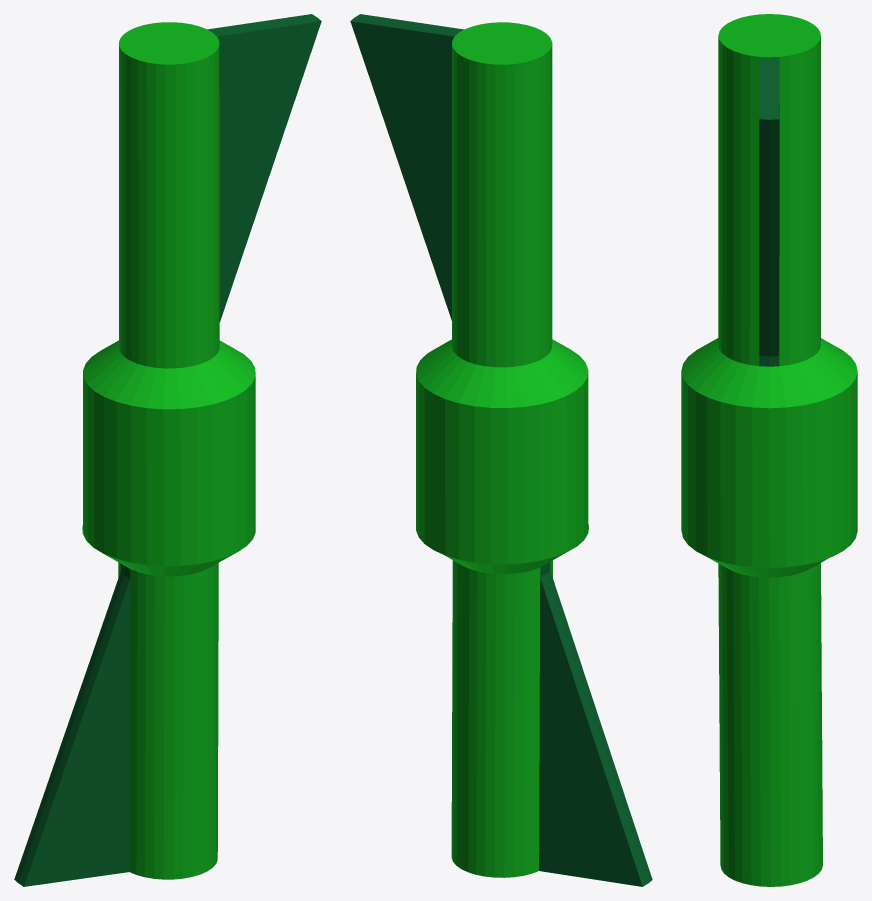
File: brazo-cilindroPlayer.glb
3 views of the same model, side by side, from view 1: azimuth 30°, elevation 25°; view 2: azimuth 150°, elevation 25°; view 3: azimuth 270°, elevation 25° (orthographic). The views are drawn at different scales.
Parts seen in each view (by area): view 1: Cylinder; view 2: Cylinder; view 3: Cylinder.
Boxes of the visible parts, <box> form: Cylinder: <box>14,14,321,886</box>; Cylinder: <box>350,14,652,886</box>; Cylinder: <box>681,14,857,886</box>.
Size of the model in its own units: 1.88 by 4.94 by 0.9505.
